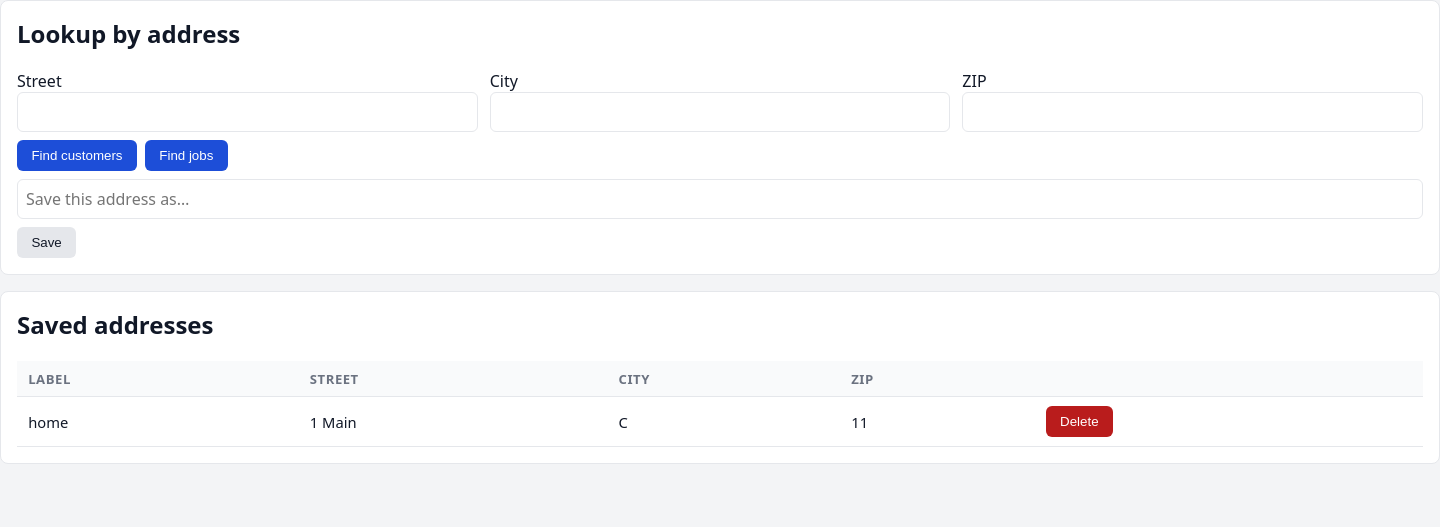
Test case: AddressBookPage › rejects lookup without city or zip
Click the button "Find customers": (77, 155) [17,140,137,171]
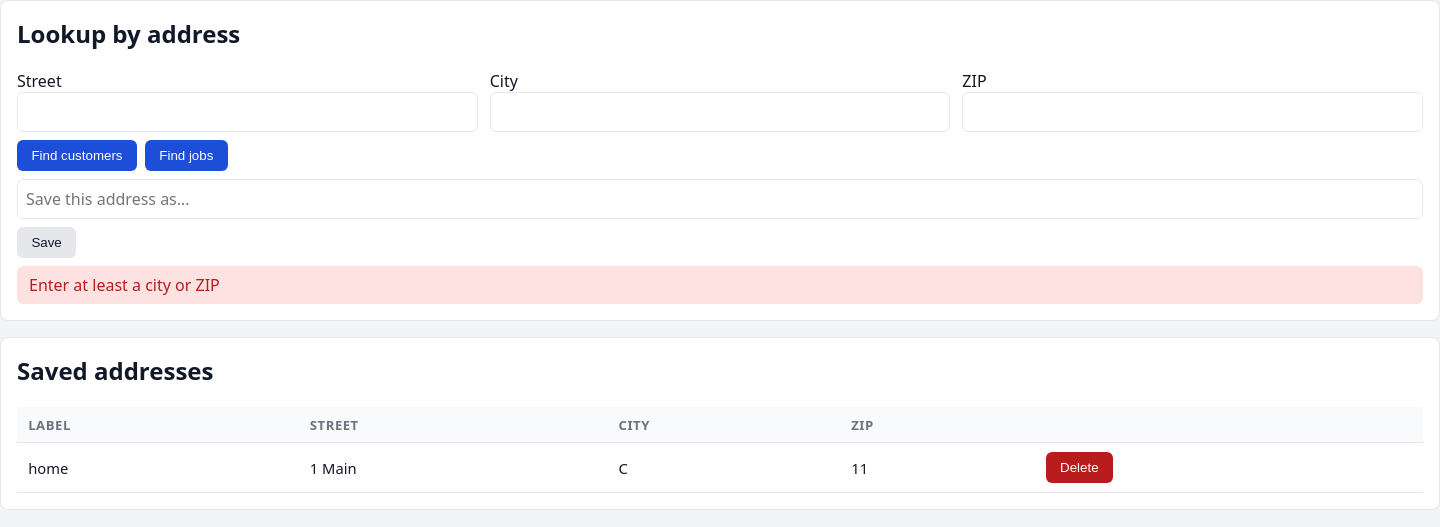
expect the message shows "Enter at least": met, box [29,274,220,296]
